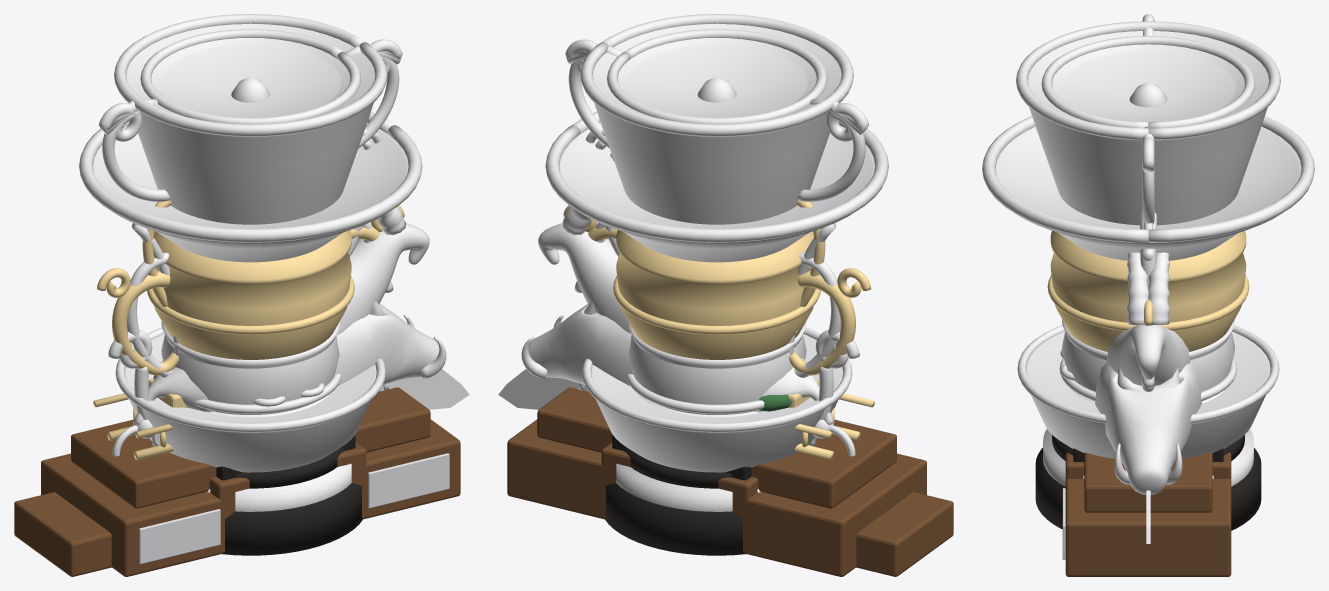
File: trophies.glb
3 views of the same model, side by side, from view 1: azimuth 30°, elevation 25°; view 2: azimuth 150°, elevation 25°; view 3: azimuth 270°, elevation 25° (orthographic). The views are drawn at different scales.
Visible parts, largest first — view 1: trophy_flared, trophy_brabazon, trophy_cresta, trophy_curzon, trophy_rosebowl, trophy_coppa-italia, trophy_morgan, trophy_urn, trophy_grand-national, trophy_calisch, trophy_cup, trophy_willoughby (+1 smaller); view 2: trophy_flared, trophy_brabazon, trophy_cresta, trophy_curzon, trophy_rosebowl, trophy_coppa-italia, trophy_morgan, trophy_urn, trophy_grand-national, trophy_calisch, trophy_cup, trophy_willoughby (+1 smaller); view 3: trophy_flared, trophy_cresta, trophy_brabazon, trophy_curzon, trophy_rosebowl, trophy_coppa-italia, trophy_morgan, trophy_calisch, trophy_urn, trophy_grand-national, trophy_cup.
Part boxes in pixels (<box>): trophy_flared: <box>102,14,399,501</box>; trophy_brabazon: <box>41,378,460,576</box>; trophy_cresta: <box>79,111,422,555</box>; trophy_curzon: <box>96,205,404,375</box>; trophy_rosebowl: <box>112,327,388,472</box>; trophy_coppa-italia: <box>14,301,446,576</box>; trophy_morgan: <box>99,29,402,480</box>; trophy_urn: <box>127,222,371,414</box>; trophy_grand-national: <box>207,77,381,511</box>; trophy_calisch: <box>336,207,429,335</box>; trophy_cup: <box>108,281,393,438</box>; trophy_willoughby: <box>379,369,469,409</box>; trophy_flared: <box>568,14,865,501</box>; trophy_brabazon: <box>507,379,926,576</box>; trophy_cresta: <box>545,111,888,555</box>; trophy_curzon: <box>563,205,871,375</box>; trophy_rosebowl: <box>579,327,855,472</box>; trophy_coppa-italia: <box>521,302,953,576</box>; trophy_morgan: <box>565,29,868,480</box>; trophy_urn: <box>596,222,840,414</box>; trophy_grand-national: <box>586,77,760,511</box>; trophy_calisch: <box>538,207,630,333</box>; trophy_cup: <box>574,281,859,438</box>; trophy_willoughby: <box>498,369,588,409</box>; trophy_flared: <box>1016,21,1280,479</box>; trophy_cresta: <box>982,116,1314,530</box>; trophy_brabazon: <box>1062,452,1231,576</box>; trophy_curzon: <box>1047,231,1249,351</box>; trophy_rosebowl: <box>1017,325,1279,458</box>; trophy_coppa-italia: <box>1095,362,1201,494</box>; trophy_morgan: <box>1041,14,1255,461</box>; trophy_calisch: <box>1106,252,1190,385</box>; trophy_urn: <box>1059,332,1237,401</box>; trophy_grand-national: <box>1043,82,1253,486</box>; trophy_cup: <box>1062,319,1234,391</box>.
Size of the model in its own units: 0.6337 by 0.6216 by 0.442.
